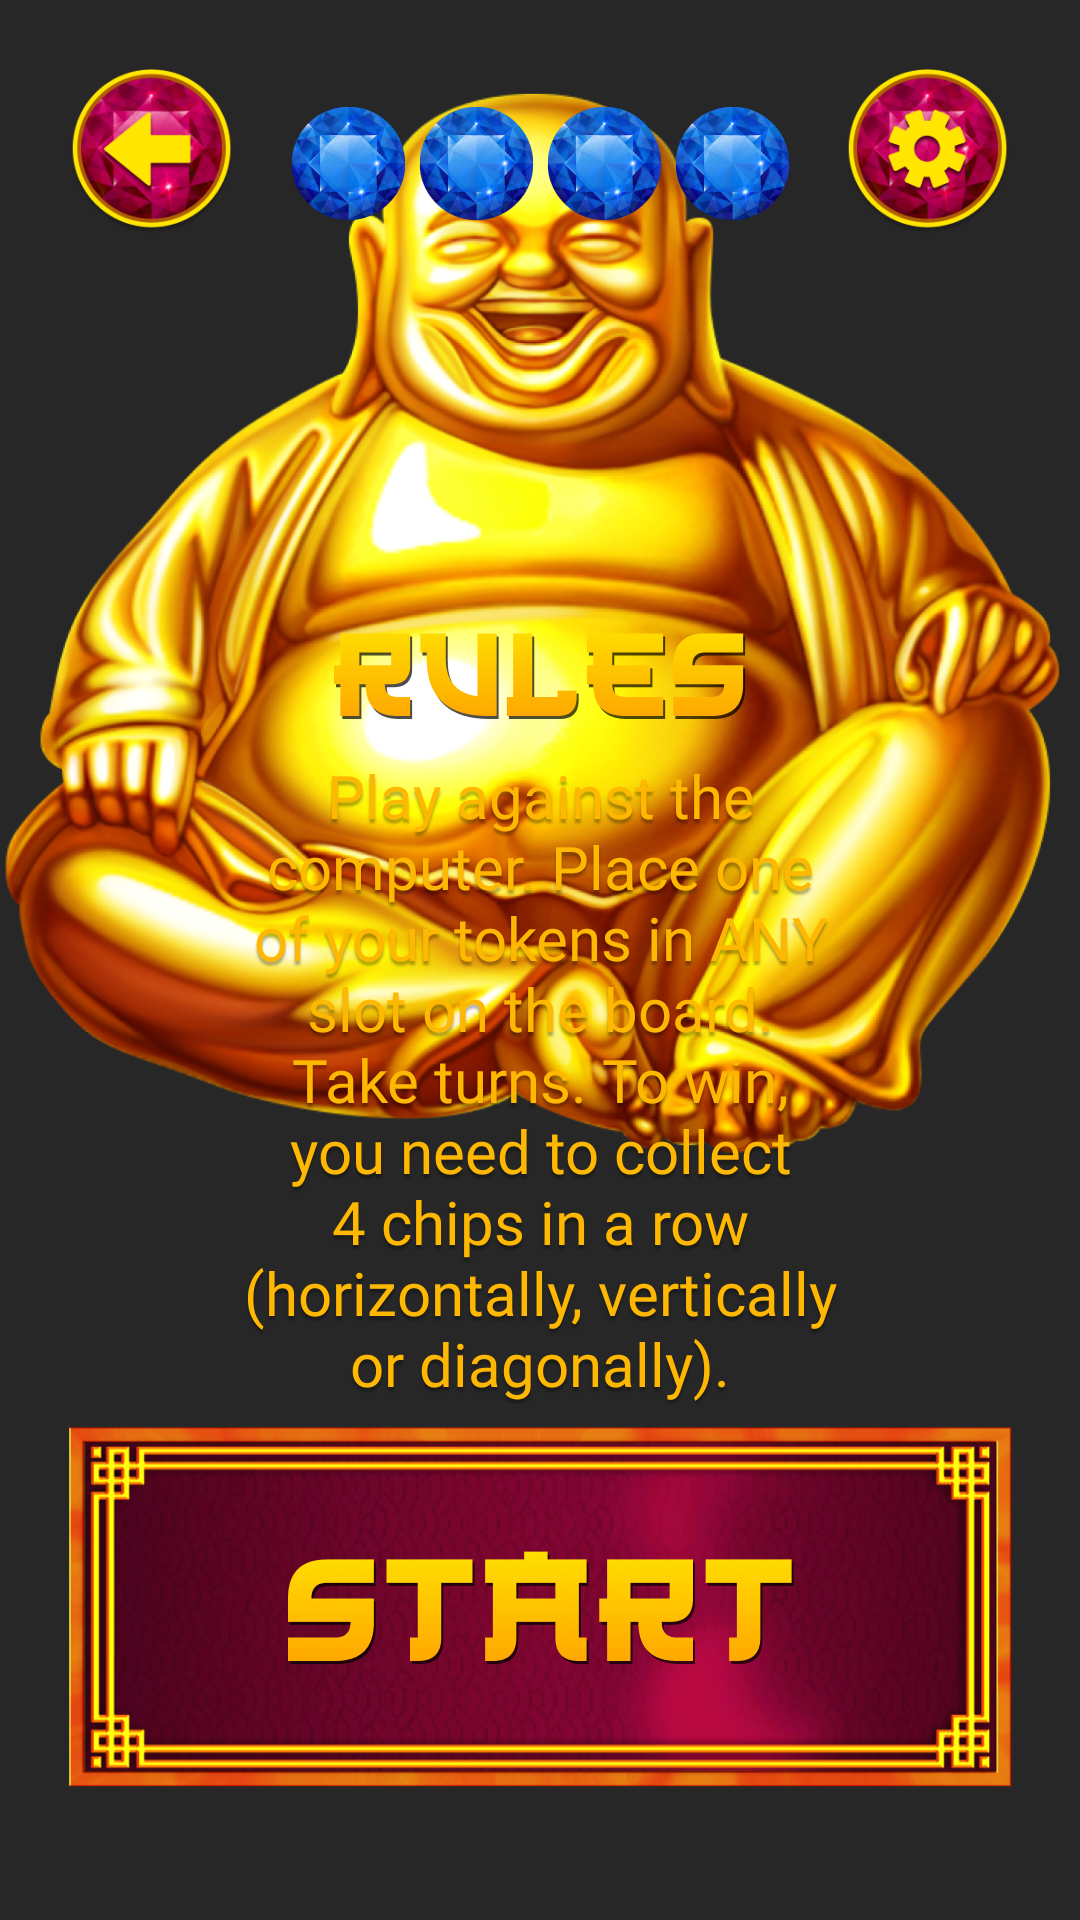

Named icons in this screenshot (1080*1920) and their bounding boxes, (x1, y1, x2, y2):
back: (72, 69, 231, 228)
settings: (848, 69, 1007, 228)
